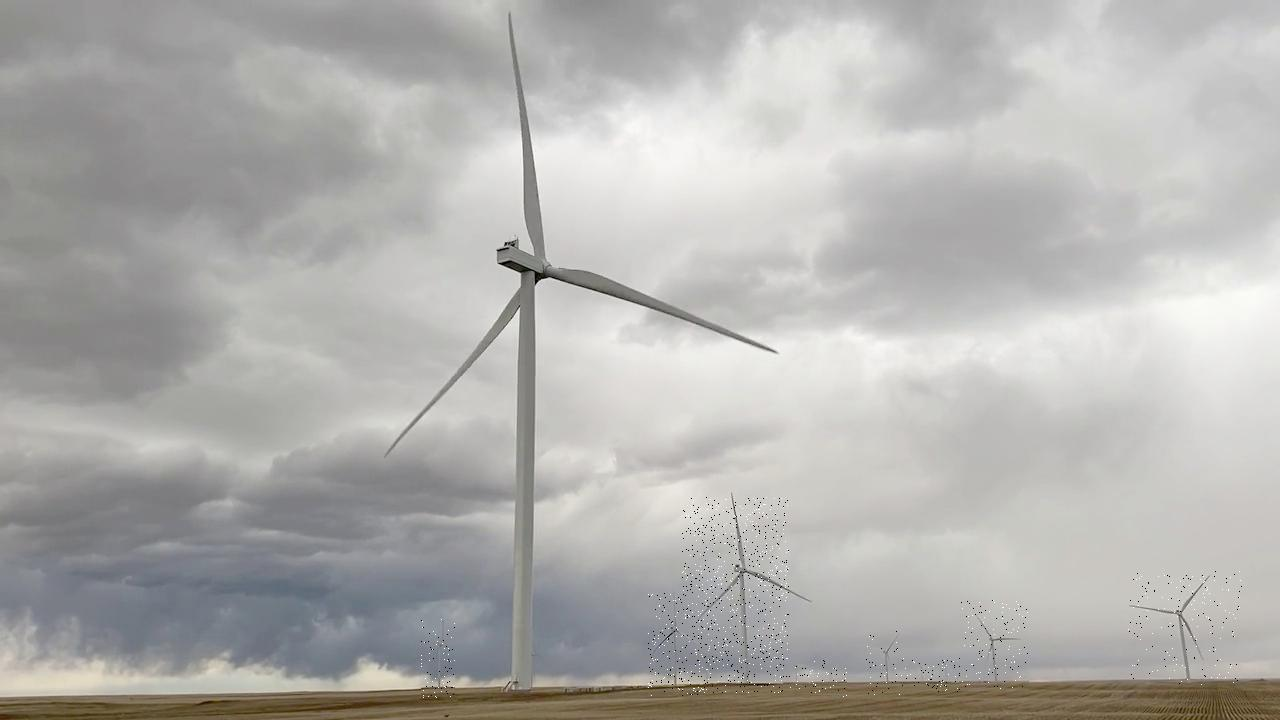turbine: (310, 0, 751, 693), (682, 497, 789, 693), (1127, 571, 1241, 685), (958, 601, 1028, 691), (648, 593, 700, 697), (863, 631, 906, 696), (420, 620, 454, 699), (809, 661, 846, 698), (928, 660, 958, 693), (905, 659, 936, 689), (782, 661, 808, 693)
